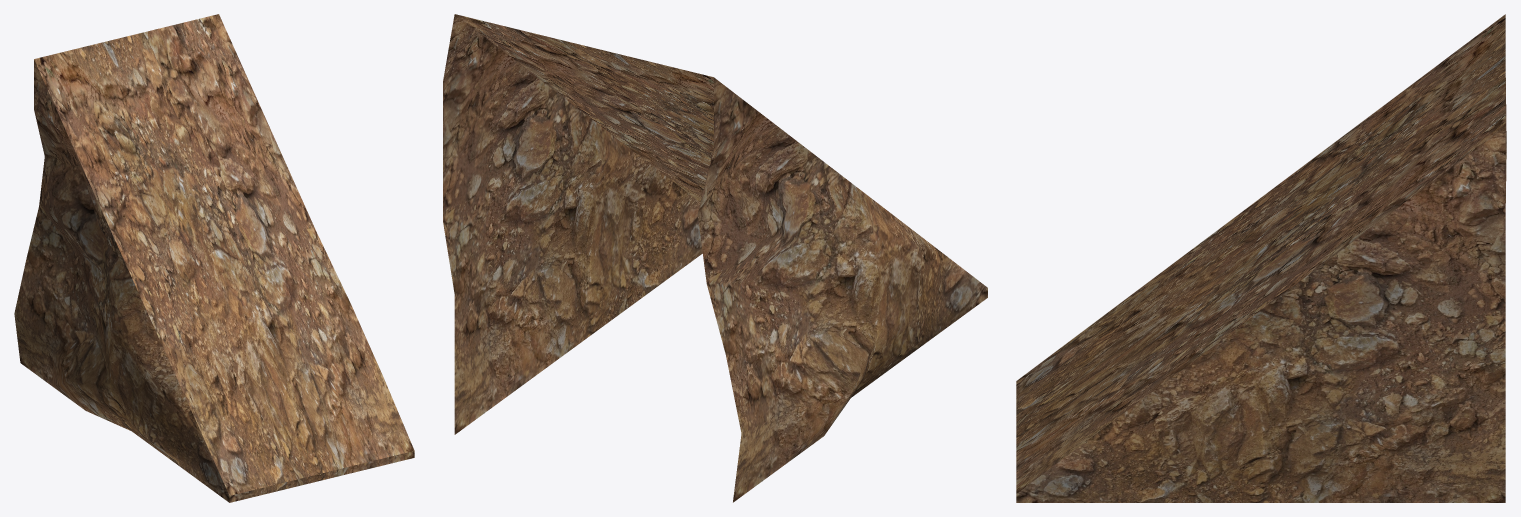
The model's file is env_model_rock_ledge_slope_001.fbx.
3 views of the same model, side by side, from view 1: azimuth 30°, elevation 25°; view 2: azimuth 150°, elevation 25°; view 3: azimuth 270°, elevation 25° (orthographic). The views are drawn at different scales.
Parts seen in each view (by area): view 1: pCube16; view 2: pCube16; view 3: pCube16.
Part boxes in pixels (x1=…): pCube16: x1=14, y1=14, x2=414, y2=502; pCube16: x1=443, y1=14, x2=987, y2=502; pCube16: x1=1016, y1=14, x2=1506, y2=502.
Size of the model in its own units: 183 by 233 by 275.
